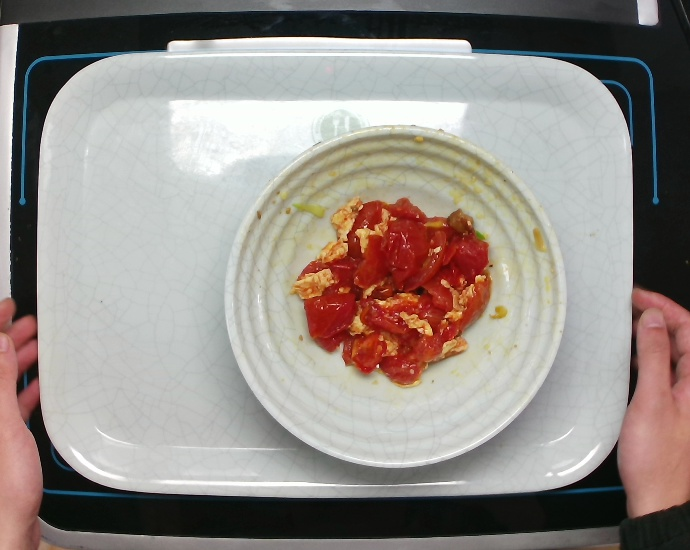JYsf-Da_Tang_Wan: (221, 122, 569, 471)
